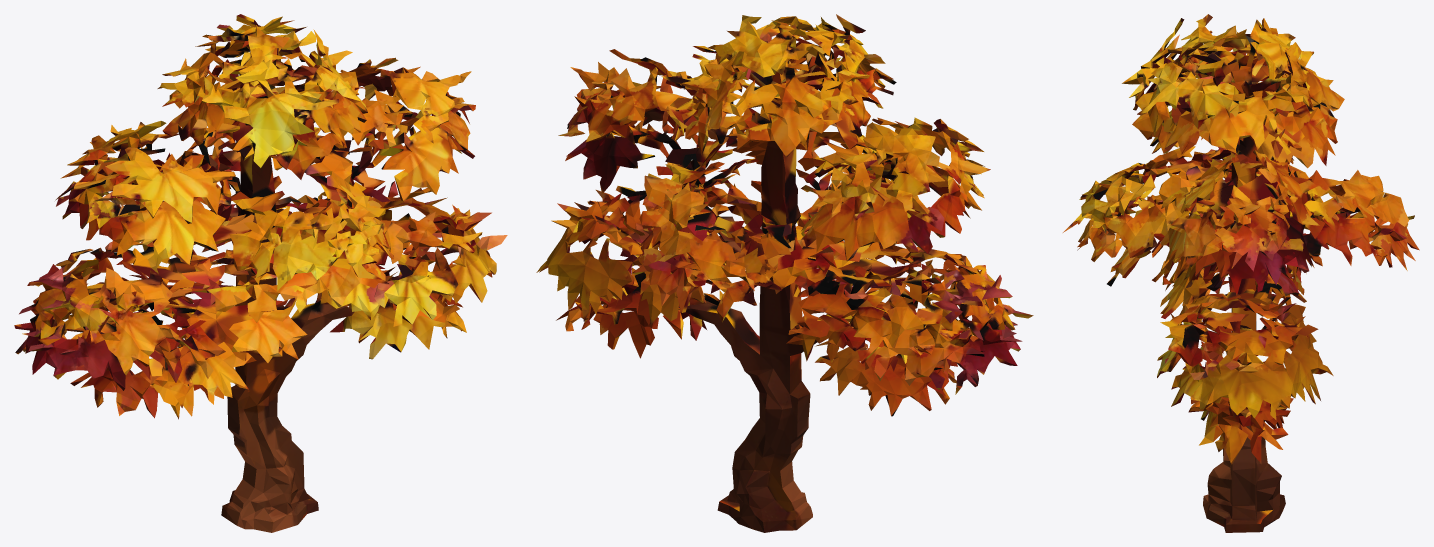
File: traveler_env_coast_autumn_valley_maple_00001_.glb
3 views of the same model, side by side, from view 1: azimuth 30°, elevation 25°; view 2: azimuth 150°, elevation 25°; view 3: azimuth 270°, elevation 25° (orthographic). The views are drawn at different scales.
Parts seen in each view (by area): view 1: temp_mesh.ply; view 2: temp_mesh.ply; view 3: temp_mesh.ply.
Part boxes in pixels (x1,y1,x2,y2): temp_mesh.ply: (14,14,507,532); temp_mesh.ply: (536,14,1033,532); temp_mesh.ply: (1063,14,1419,532).
Bounding box in the file's own units: 1.96 × 1.98 × 1.34.
1 material, 1 textured.
